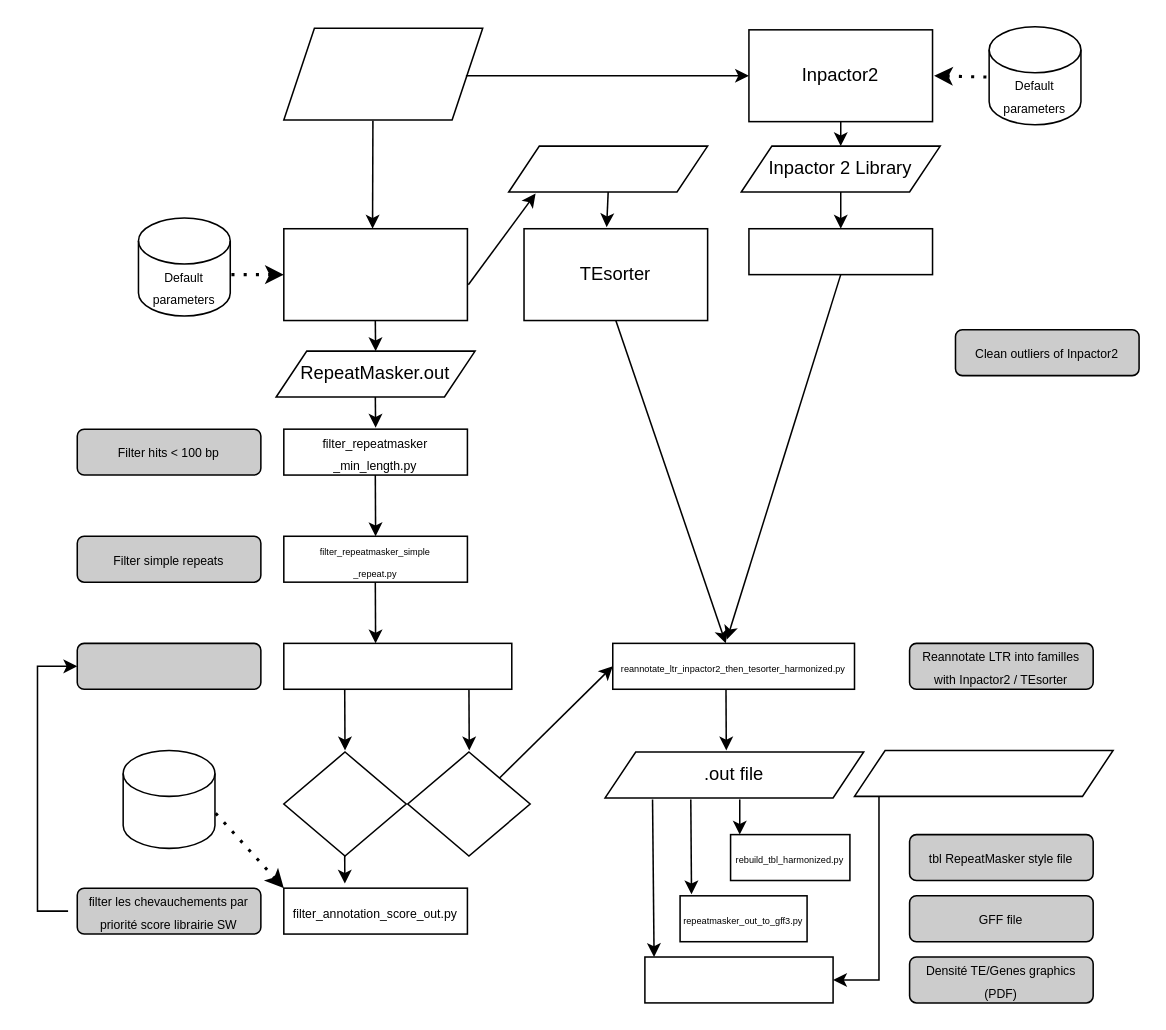
This 1166x1030 diagram has some shape labels left out. Here are the shapes that lost their labels. From the top down, the centre of each, then its label:
pixel 382 73: Genome
pixel 607 168: HiTE Library
pixel 840 251: clean
pixel 374 274: HiTE v3.3.2
pixel 168 665: Overlap evaluation
pixel 397 665: count_TE_overlaps_out.py
pixel 983 772: gene.gff file
pixel 168 798: --min-overlap-fraction 0.8 - 0.5
pixel 344 803: If overlap > 1/2%
pixel 468 803: If overlapp <1/2%
pixel 738 979: plot_te_gene_density_from_out_flexible.py
